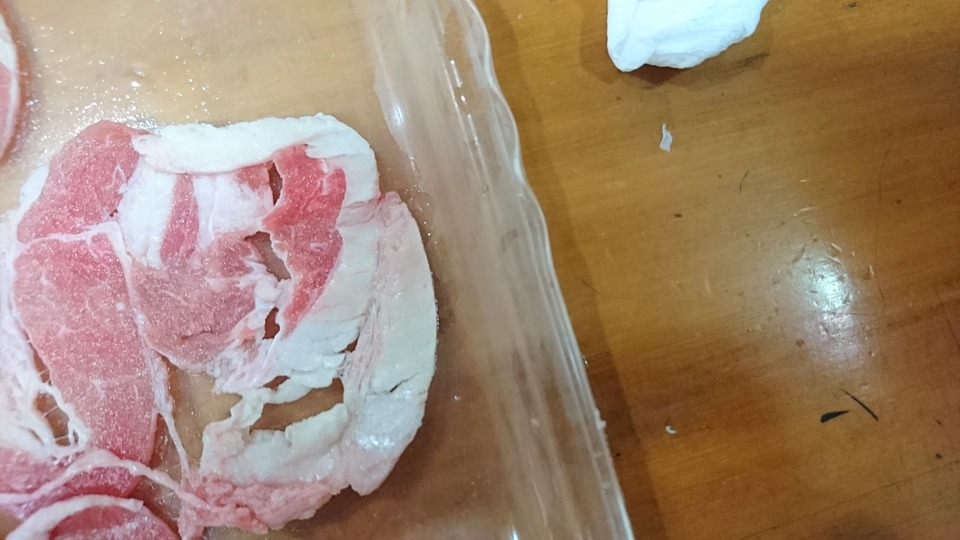restructured meat: (1, 115, 437, 540)
